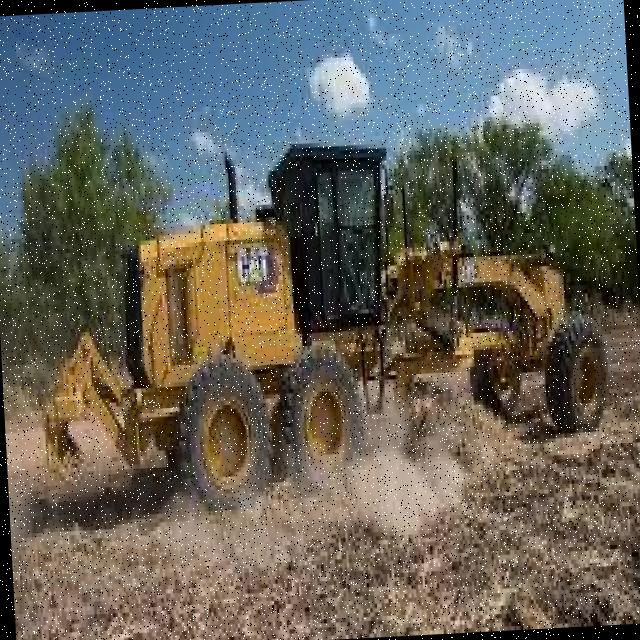Grader: (27, 106, 640, 583)
